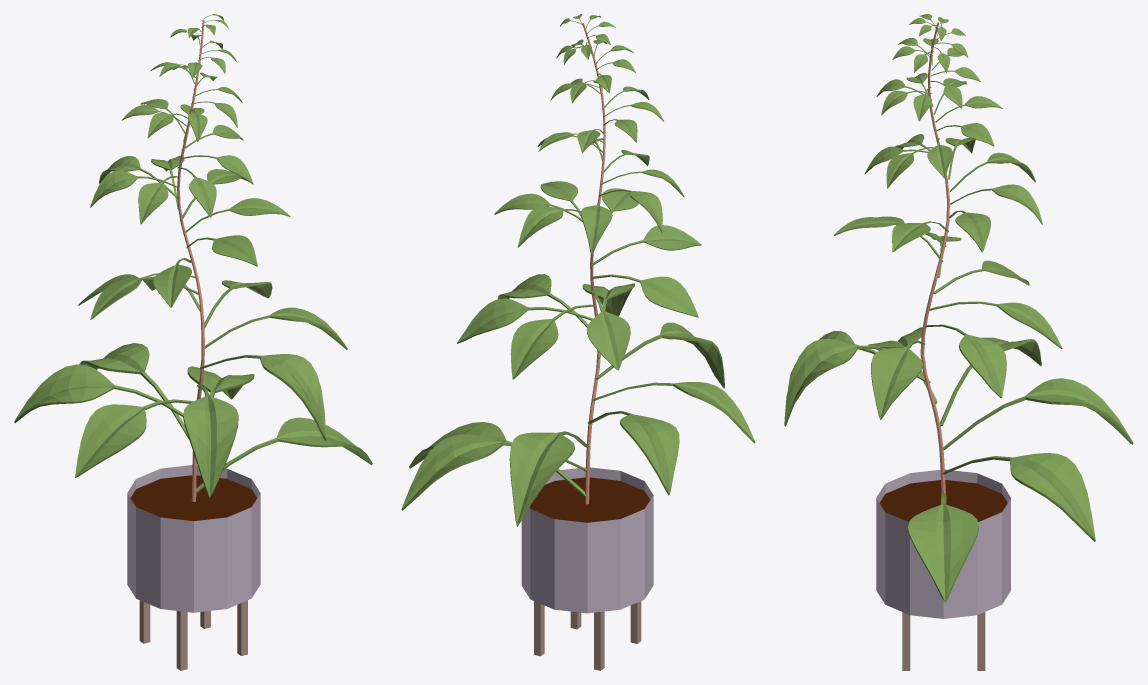
The model's file is spiral_plant-draco.gltf.
The picture shows the model from 3 angles, left to right: view 1: azimuth 30°, elevation 25°; view 2: azimuth 150°, elevation 25°; view 3: azimuth 270°, elevation 25°; orthographic projection. The views are drawn at different scales.
Parts seen in each view (by area): view 1: spiral_plant_pot, spiral_plant_pot.001, spiral_plant_leaf.006, spiral_plant_leaf.005, spiral_plant_leaf.004, spiral_plant_leaf.007, spiral_plant_leaf.001, spiral_plant_legs, spiral_plant_leaf.003, spiral_plant_stem, spiral_plant_leaf.008, spiral_plant_leaf.002 (+10 smaller); view 2: spiral_plant_pot, spiral_plant_pot.001, spiral_plant_leaf.003, spiral_plant_leaf.002, spiral_plant_leaf.004, spiral_plant_leaf.010, spiral_plant_legs, spiral_plant_leaf.011, spiral_plant_leaf.009, spiral_plant_leaf.005, spiral_plant_leaf.012, spiral_plant_leaf.006 (+11 smaller); view 3: spiral_plant_pot, spiral_plant_leaf.001, spiral_plant_leaf.002, spiral_plant_pot.001, spiral_plant_leaf.003, spiral_plant_leaf.008, spiral_plant_leaf.007, spiral_plant_leaf.009, spiral_plant_stem, spiral_plant_leaf.010, spiral_plant_legs, spiral_plant_leaf.004 (+8 smaller).
Part boxes in pixels (left/top/right/bottom): spiral_plant_pot: left=127, top=465, right=260, bottom=612; spiral_plant_pot.001: left=130, top=475, right=256, bottom=521; spiral_plant_leaf.006: left=183, top=384, right=238, bottom=497; spiral_plant_leaf.005: left=75, top=399, right=193, bottom=477; spiral_plant_leaf.004: left=14, top=364, right=183, bottom=423; spiral_plant_leaf.007: left=200, top=354, right=326, bottom=440; spiral_plant_leaf.001: left=196, top=417, right=372, bottom=493; spiral_plant_legs: left=139, top=600, right=247, bottom=670; spiral_plant_leaf.003: left=79, top=343, right=189, bottom=439; spiral_plant_stem: left=177, top=20, right=204, bottom=501; spiral_plant_leaf.008: left=205, top=307, right=347, bottom=349; spiral_plant_leaf.002: left=187, top=366, right=254, bottom=464; spiral_plant_pot: left=521, top=467, right=653, bottom=613; spiral_plant_pot.001: left=529, top=477, right=649, bottom=522; spiral_plant_leaf.003: left=509, top=431, right=588, bottom=526; spiral_plant_leaf.002: left=401, top=434, right=587, bottom=510; spiral_plant_leaf.004: left=588, top=411, right=679, bottom=495; spiral_plant_leaf.010: left=510, top=304, right=594, bottom=379; spiral_plant_legs: left=534, top=601, right=641, bottom=670; spiral_plant_leaf.011: left=586, top=290, right=630, bottom=370; spiral_plant_leaf.009: left=456, top=298, right=592, bottom=343; spiral_plant_leaf.005: left=592, top=382, right=755, bottom=443; spiral_plant_leaf.012: left=590, top=274, right=698, bottom=317; spiral_plant_leaf.006: left=596, top=322, right=724, bottom=388; spiral_plant_pot: left=876, top=469, right=1010, bottom=618; spiral_plant_leaf.001: left=907, top=493, right=978, bottom=602; spiral_plant_leaf.002: left=943, top=453, right=1095, bottom=541; spiral_plant_pot.001: left=879, top=480, right=1007, bottom=521; spiral_plant_leaf.003: left=943, top=378, right=1133, bottom=449; spiral_plant_leaf.008: left=871, top=340, right=924, bottom=420; spiral_plant_leaf.007: left=784, top=339, right=925, bottom=426; spiral_plant_leaf.009: left=925, top=324, right=1006, bottom=398; spiral_plant_stem: left=920, top=22, right=949, bottom=504; spiral_plant_leaf.010: left=929, top=301, right=1062, bottom=348; spiral_plant_legs: left=902, top=612, right=985, bottom=670; spiral_plant_leaf.004: left=940, top=337, right=1041, bottom=425.
Bounding box in the file's own units: 8.27 × 15.34 × 7.62.
